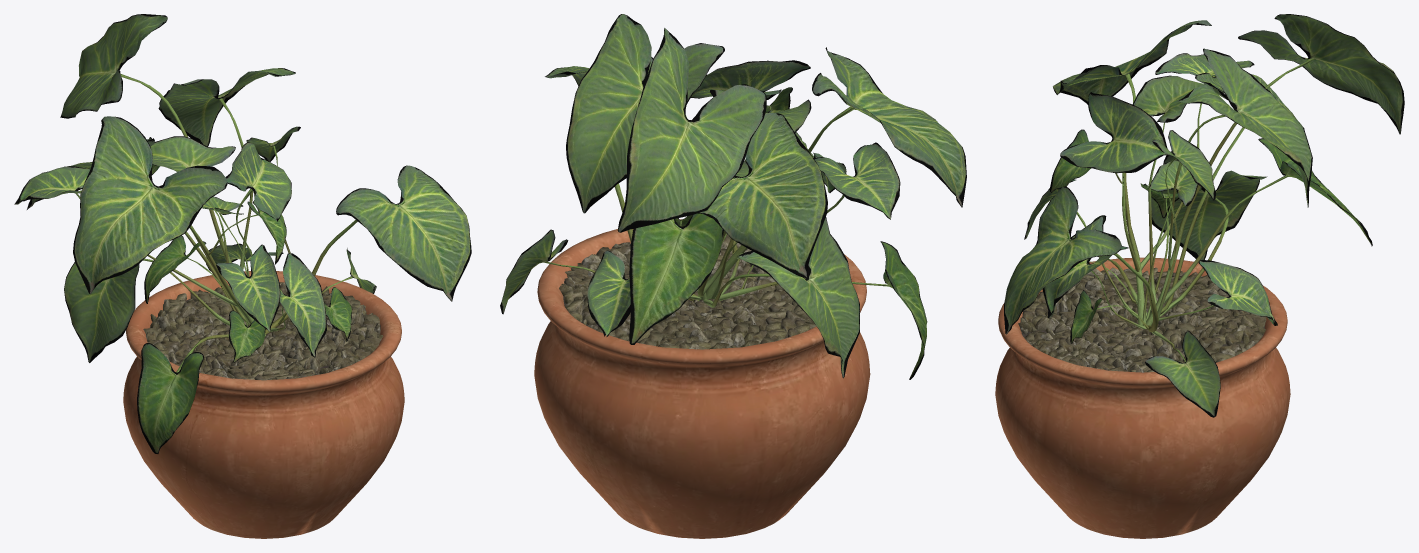
Rendered from planta-costela.glb.
3 views of the same model, side by side, from view 1: azimuth 30°, elevation 25°; view 2: azimuth 150°, elevation 25°; view 3: azimuth 270°, elevation 25° (orthographic). The views are drawn at different scales.
Parts seen in each view (by area): view 1: potted_plant_02_leaves, potted_plant_02_pot; view 2: potted_plant_02_leaves, potted_plant_02_pot; view 3: potted_plant_02_pot, potted_plant_02_leaves.
Boxes of the visible parts, x1,y1,x2,y2 form: potted_plant_02_leaves: [14, 14, 471, 453]; potted_plant_02_pot: [123, 271, 404, 538]; potted_plant_02_leaves: [500, 14, 966, 379]; potted_plant_02_pot: [534, 219, 870, 538]; potted_plant_02_pot: [995, 257, 1290, 538]; potted_plant_02_leaves: [1004, 14, 1404, 417].
Bounding box in the file's own units: 0.7009 × 0.8412 × 0.6574.
2 materials, 2 textured.
